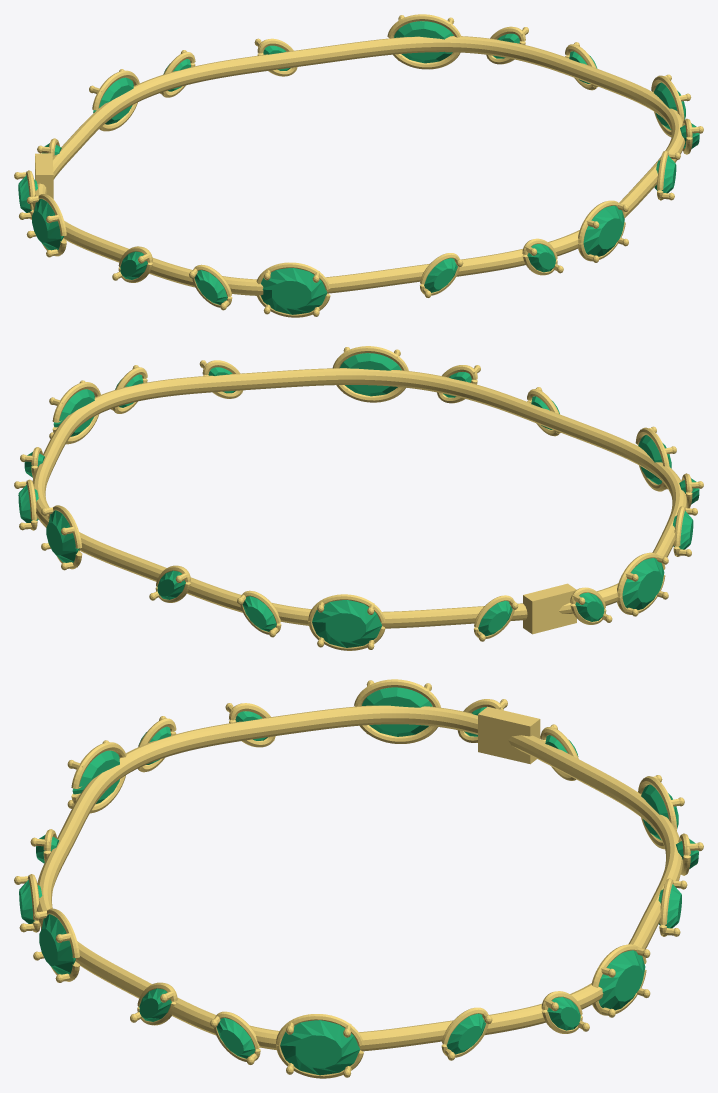
File: emerald-vine-gold-bracelet.glb
3 views of the same model, one above another, from view 1: azimuth 30°, elevation 25°; view 2: azimuth 150°, elevation 25°; view 3: azimuth 270°, elevation 25° (orthographic). The views are drawn at different scales.
Parts seen in each view (by area): view 1: Gold vine and settings, Emerald gemstones; view 2: Gold vine and settings, Emerald gemstones; view 3: Gold vine and settings, Emerald gemstones.
Part boxes in pixels (left/top/right/bottom): Gold vine and settings: left=14, top=14, right=703, bottom=317; Emerald gemstones: left=18, top=21, right=699, bottom=314; Gold vine and settings: left=14, top=346, right=703, bottom=650; Emerald gemstones: left=18, top=353, right=699, bottom=647; Gold vine and settings: left=14, top=679, right=703, bottom=1078; Emerald gemstones: left=19, top=687, right=698, bottom=1075.
Bounding box in the file's own units: 0.07 × 0.006 × 0.058.
